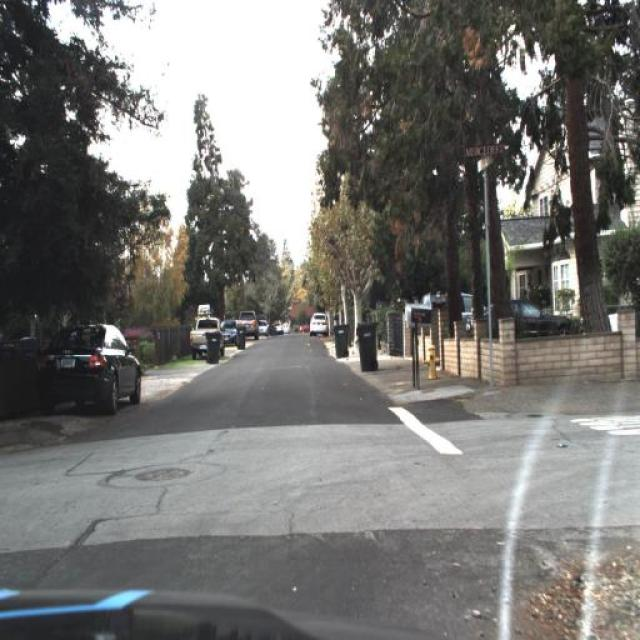car: (34, 319, 147, 416), (476, 299, 576, 336), (408, 291, 483, 335), (186, 311, 222, 369), (220, 318, 244, 350), (237, 310, 257, 345), (309, 310, 330, 338)
